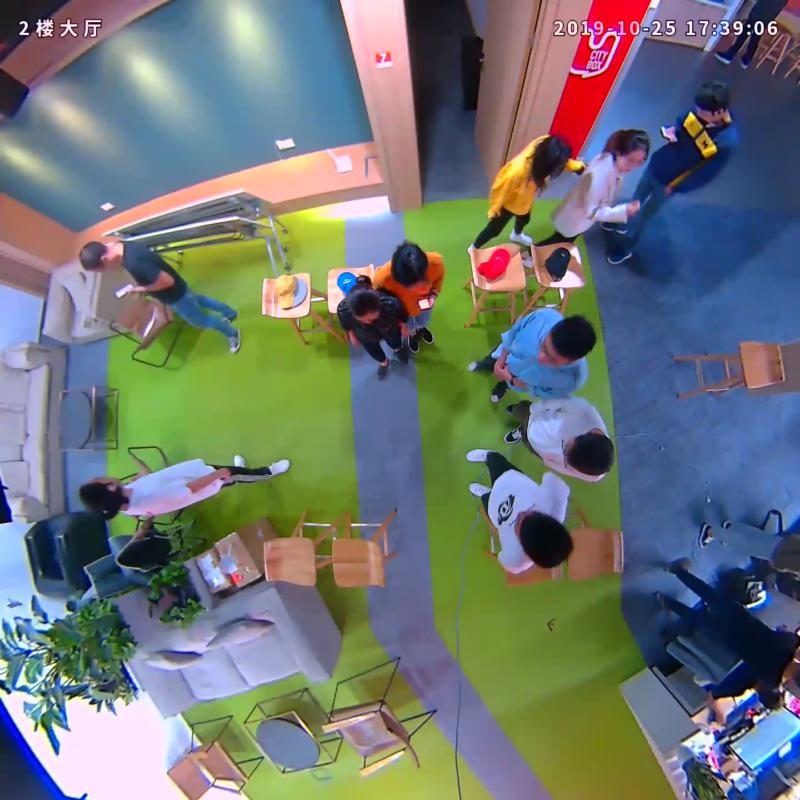head: (512, 509, 575, 569), (537, 315, 595, 369), (561, 433, 614, 476), (81, 477, 125, 516), (535, 134, 573, 177), (613, 128, 650, 172), (391, 241, 427, 286), (695, 79, 731, 123), (345, 286, 379, 323), (79, 239, 117, 272)
